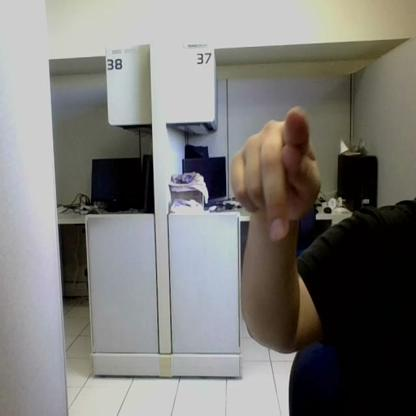P: (231, 107, 320, 242)
